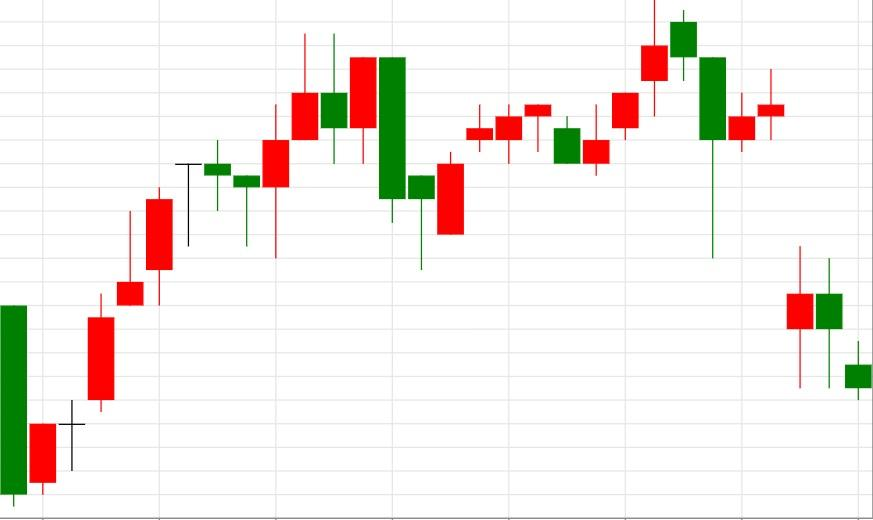bearish_engulfing_fall: (232, 32, 407, 259)
three_white_soldiers_rise: (523, 0, 669, 176)
